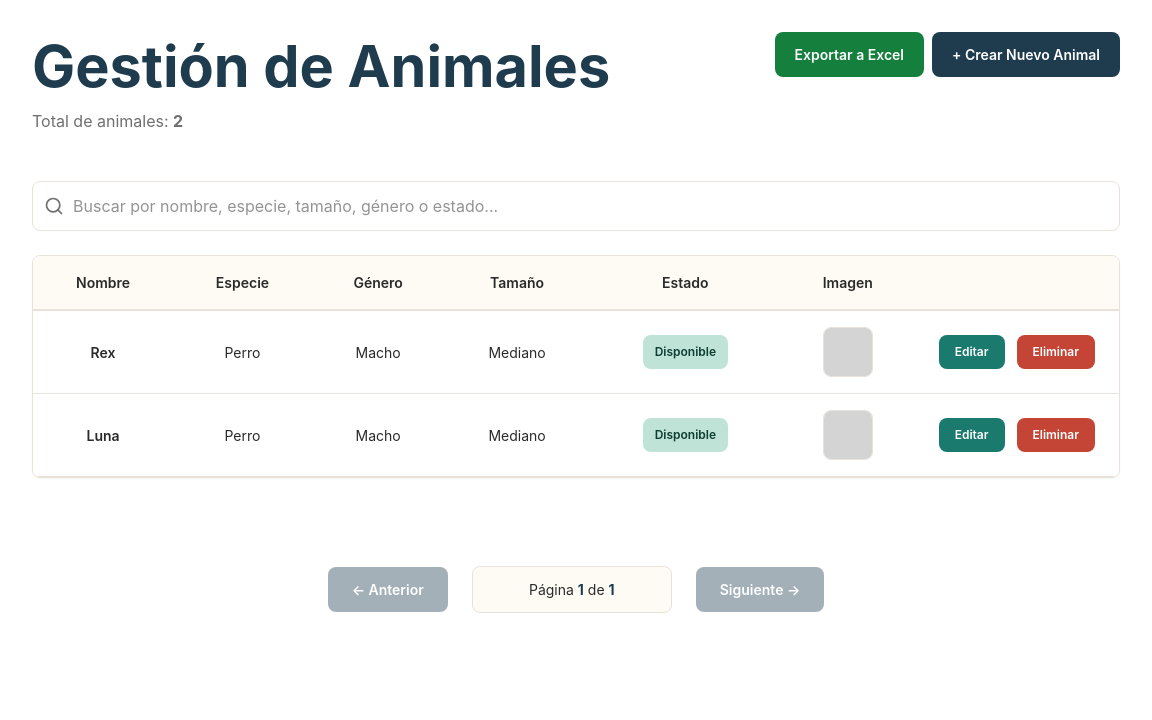
Test case: search › restores full list when search cleared
Step 1. Type "Rex" into the field with placeholder "Buscar por nombre, especie, tamaño, género o estado..." → (576, 206), box [32,181,1120,231]
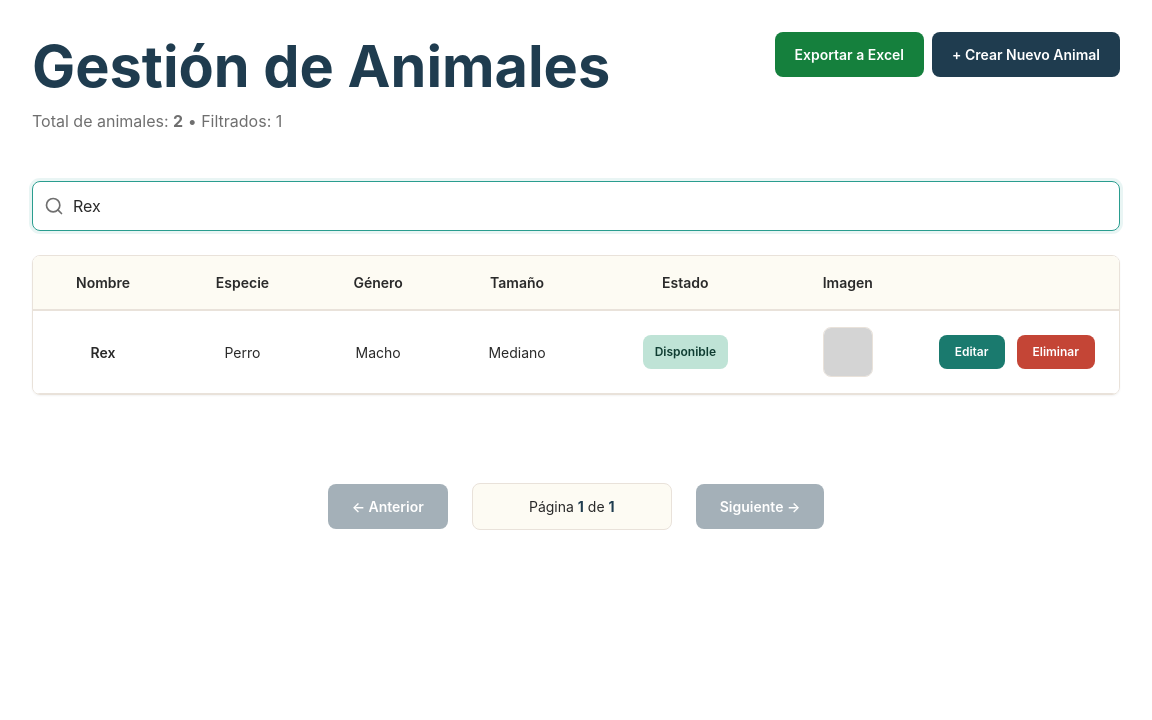
Step 2. Clear the field with placeholder "Buscar por nombre, especie, tamaño, género o estado..." → (576, 206), box [32,181,1120,231]
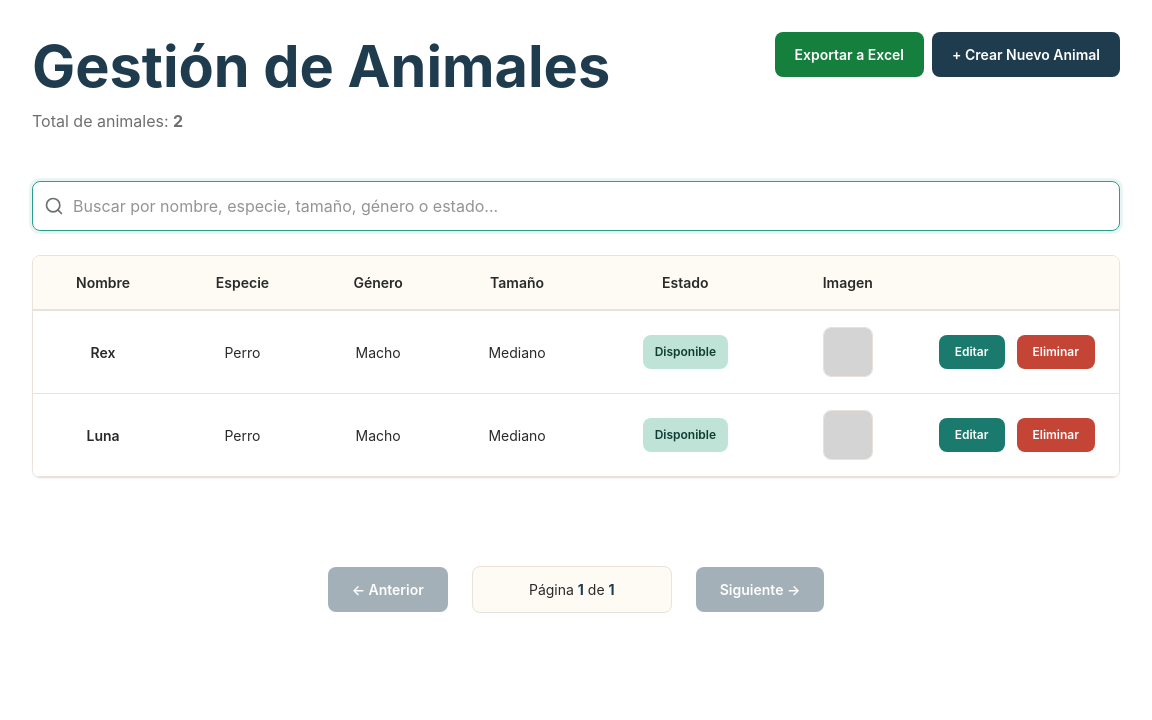
Expected: the text "Rex" is shown, [33,310,173,394]
Expected: the text "Luna" is shown, [33,394,173,477]
